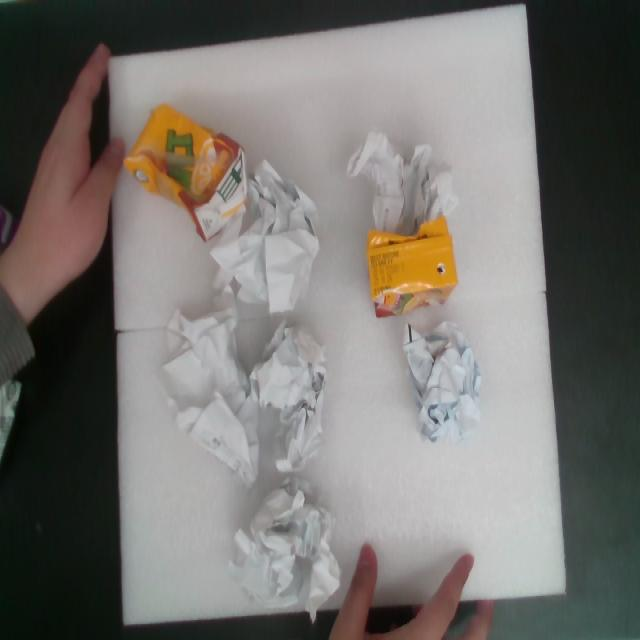juicebox: (92, 80, 278, 263), (335, 199, 489, 337)
paper: (93, 275, 311, 518), (151, 141, 363, 352), (316, 112, 495, 259), (379, 305, 497, 459), (232, 486, 359, 629), (241, 315, 340, 490)
